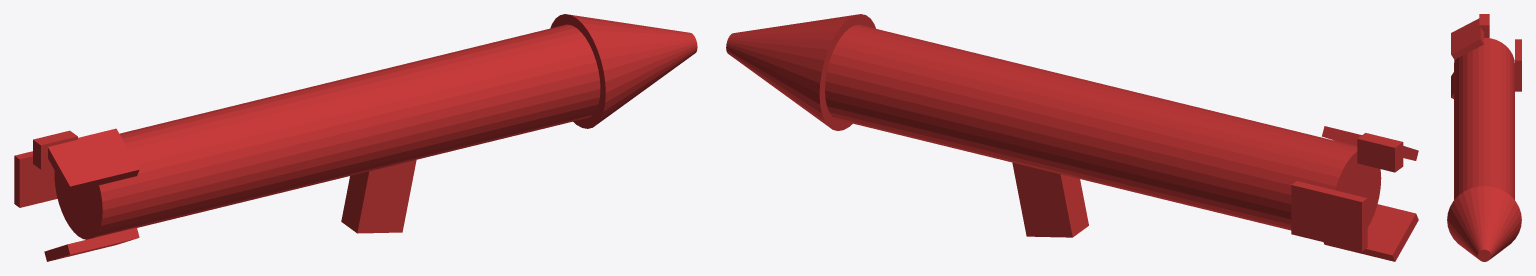
The model's file is W_HarborWreckRocket.fbx.
3 views of the same model, side by side, from view 1: azimuth 30°, elevation 25°; view 2: azimuth 150°, elevation 25°; view 3: azimuth 270°, elevation 25° (orthographic). The views are drawn at different scales.
Visible parts, largest first — view 1: W_HarborWreckRocket; view 2: W_HarborWreckRocket; view 3: W_HarborWreckRocket.
Boxes of the visible parts, x1,y1,x2,y2 form: W_HarborWreckRocket: (14, 14, 697, 261); W_HarborWreckRocket: (726, 14, 1418, 261); W_HarborWreckRocket: (1447, 14, 1521, 261).
Size of the model in its own units: 1.41 by 0.3536 by 0.22.
